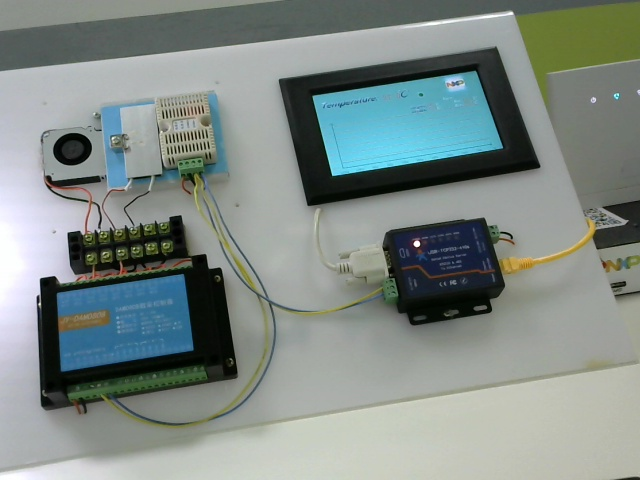fan: (28, 115, 105, 204)
heater: (116, 99, 162, 187)
modbus bridge: (377, 223, 528, 329)
relay: (29, 263, 259, 412)
termperature: (154, 92, 226, 179)
